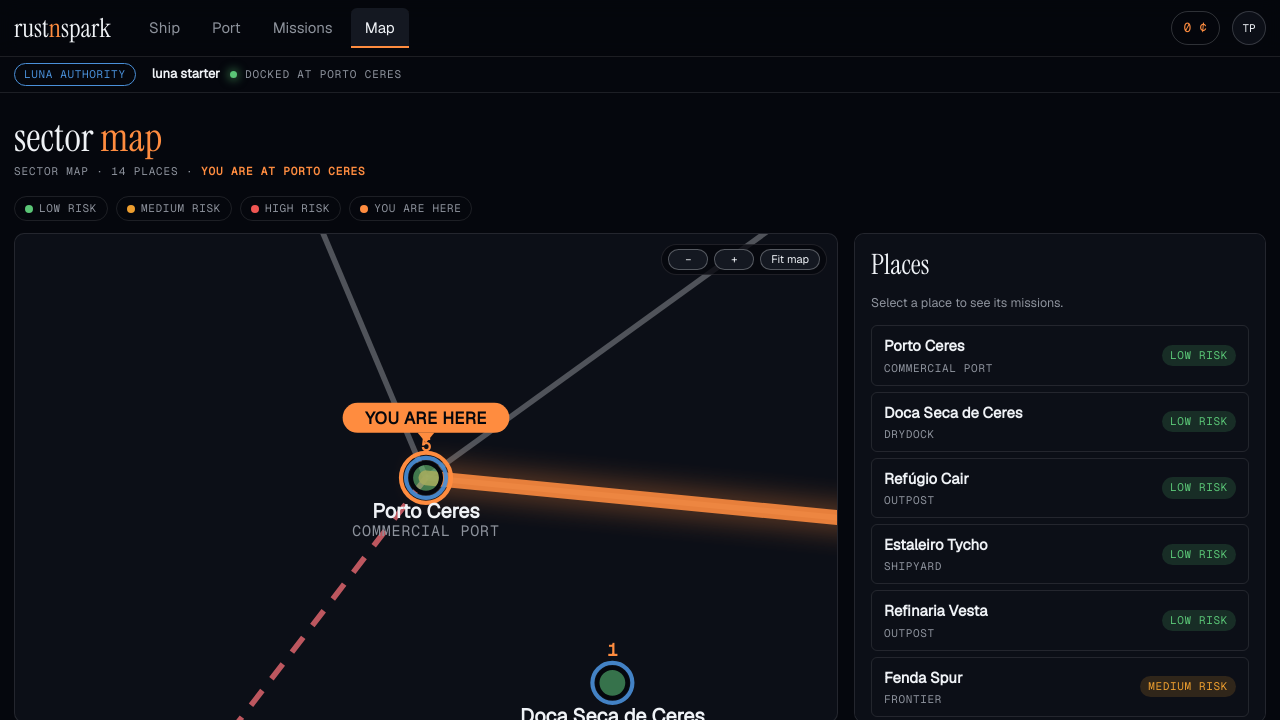
map (S10.5) › lists the places, nearest first, until one is selected; a place can be picked from the list
Check: the button "Porto Ceres Commercial port Low risk" is shown, box x1=871 y1=325 x2=1249 y2=386
Click the button "Doca Seca de Ceres Drydock Low risk". click: (953, 412)
box: x1=871 y1=392 x2=1249 y2=452
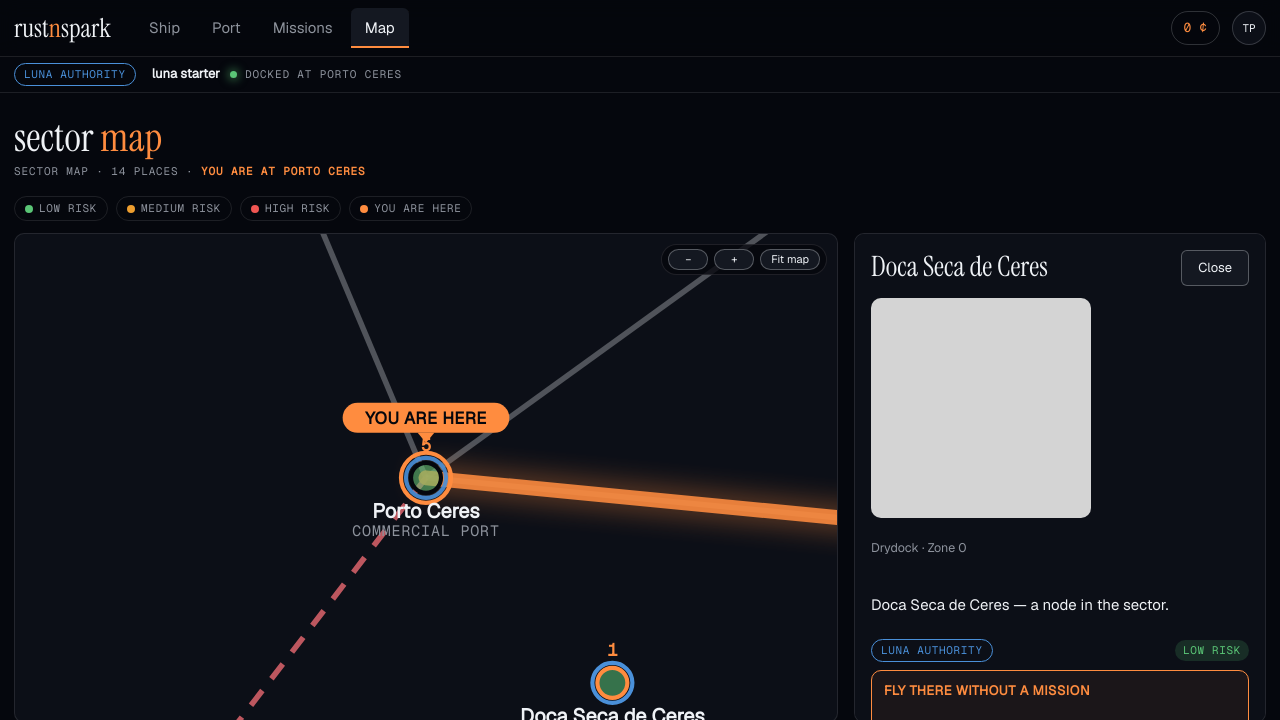
Check: the button "Close" is shown, box x1=1181 y1=250 x2=1249 y2=286
